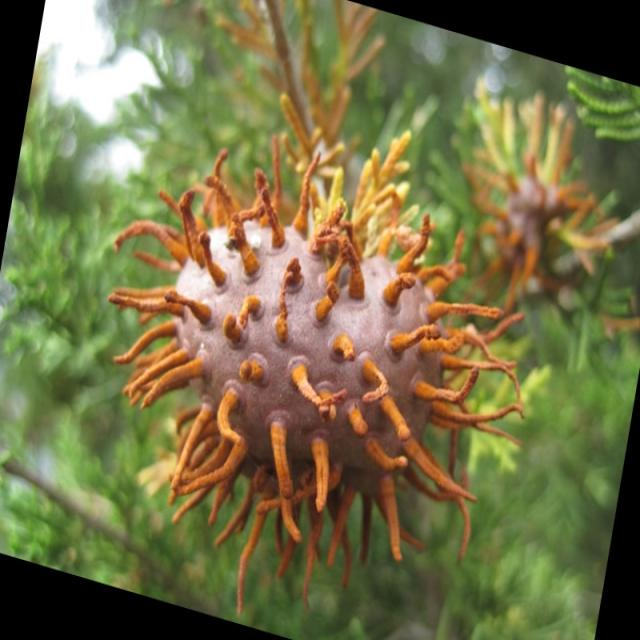Gymnosporangium_Rusts: (106, 127, 526, 613)
